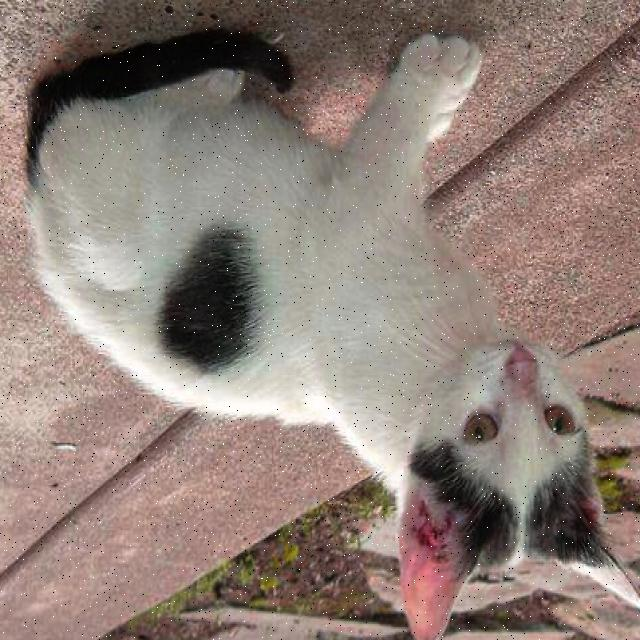Cat: (384, 326, 635, 612)
